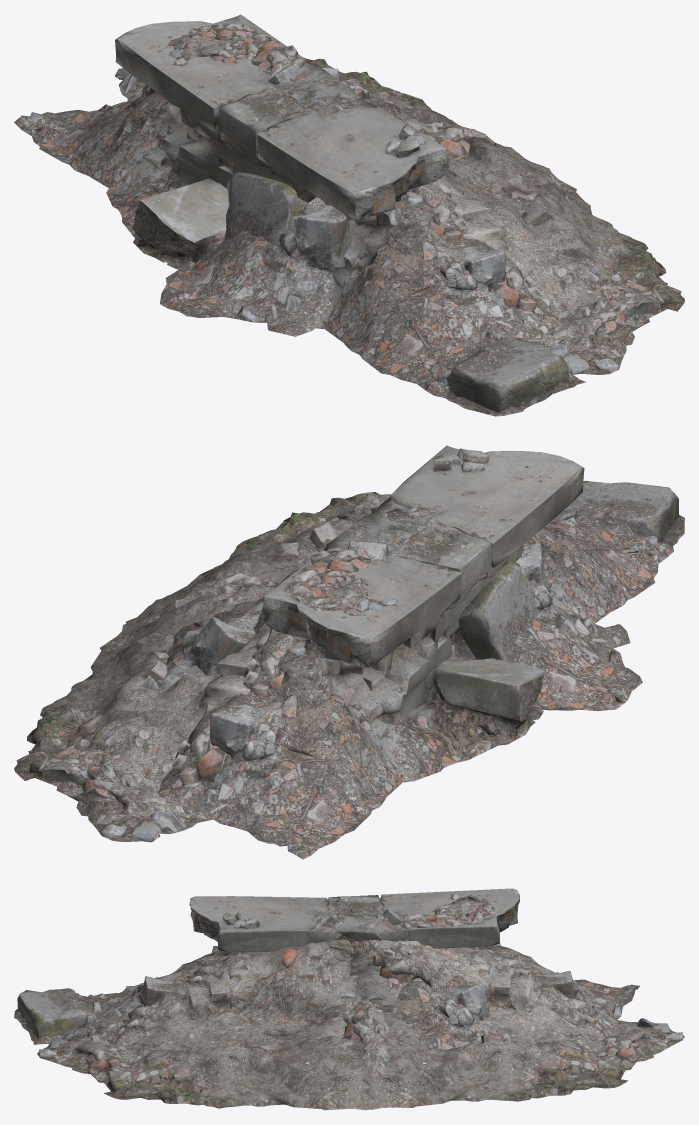
File: SM_Stairs_01_05.fbx
3 renders of one model, top to bottom at view 1: azimuth 30°, elevation 25°; view 2: azimuth 150°, elevation 25°; view 3: azimuth 270°, elevation 25°, orthographic. The views are drawn at different scales.
Visible parts, largest first — view 1: sm_Stairs_01_05_LOD0; view 2: sm_Stairs_01_05_LOD0; view 3: sm_Stairs_01_05_LOD0.
Part boxes in pixels (<box>): sm_Stairs_01_05_LOD0: <box>14,14,684,416</box>; sm_Stairs_01_05_LOD0: <box>14,445,684,859</box>; sm_Stairs_01_05_LOD0: <box>14,888,684,1110</box>.
Size of the model in its own units: 592 by 323 by 113.
